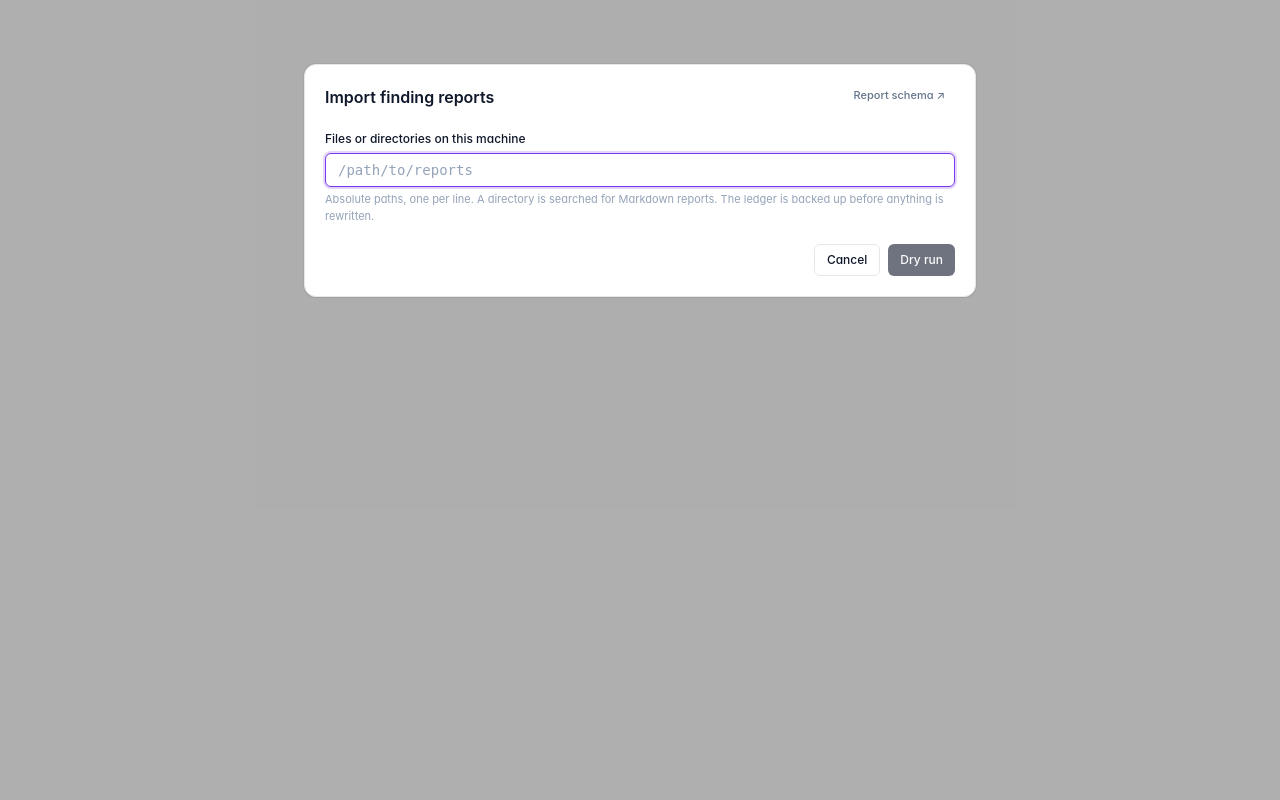
Scenario: ImportFindingsDialog › shows a refusal inline and forgets the dry run when the paths change
Type "srv/x" into the text box labelled "Files or directories on this machine".
click(640, 170); type("srv/x")  # box [325,153,955,187]
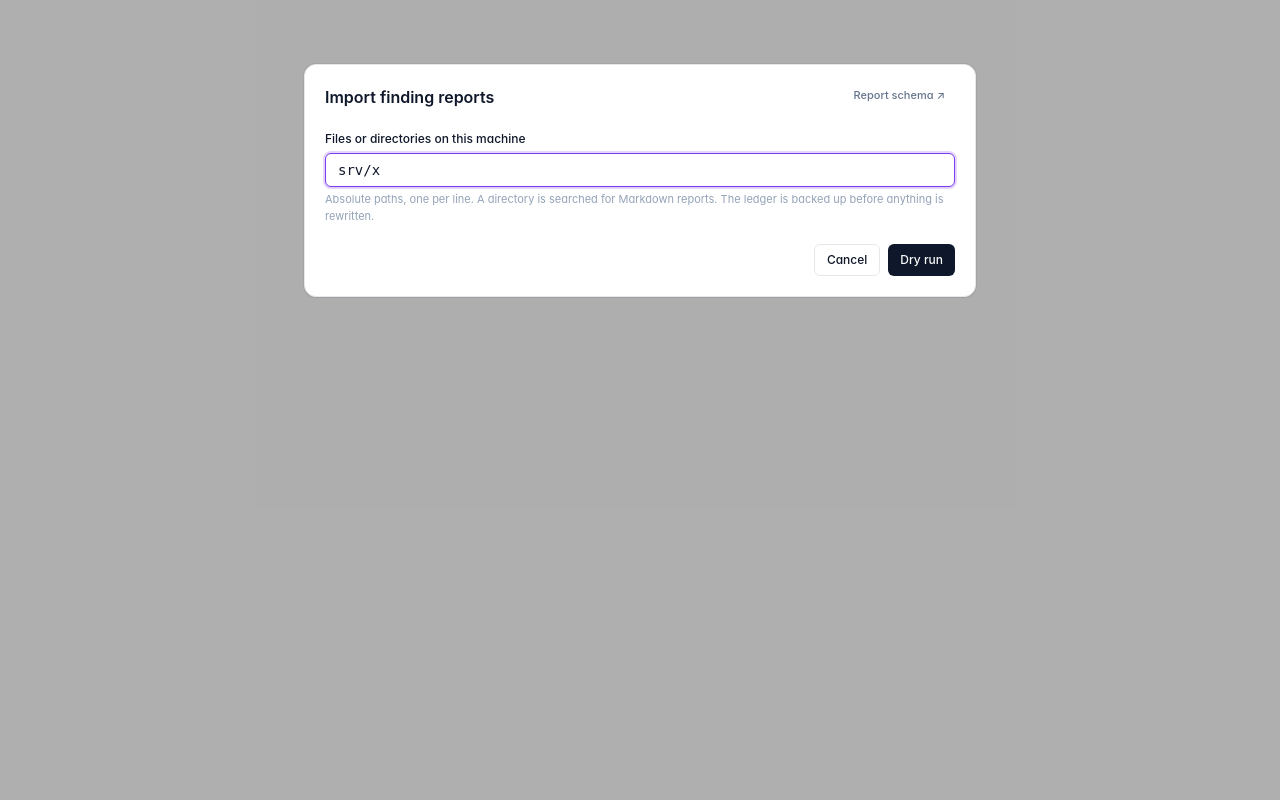
Click the button "Dry run".
click(922, 260)  # box [888,244,955,276]
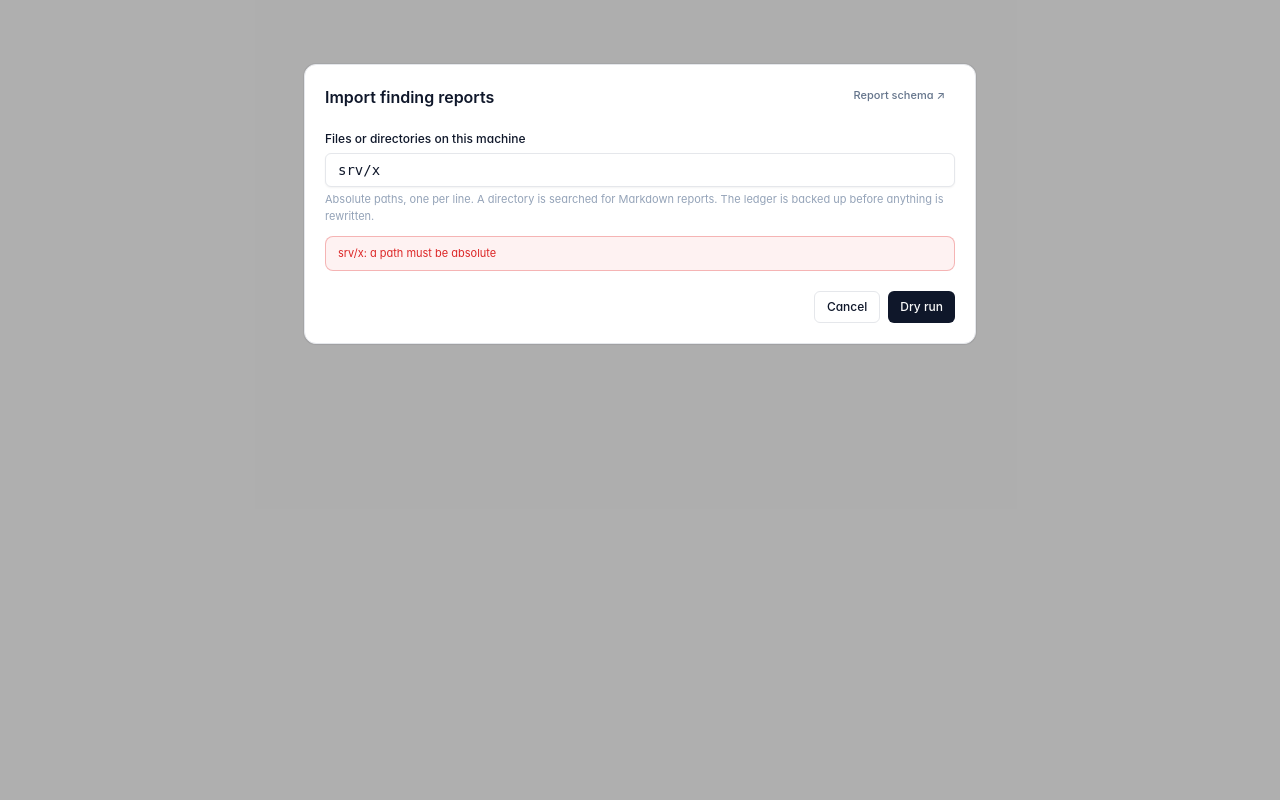
expect the message shows "a path must be absolute": met, box [338,246,496,260]
Replace the text in the text box labelled "Files or directories on this machine" with "/srv/x" at (640, 170), box [325,153,955,187]
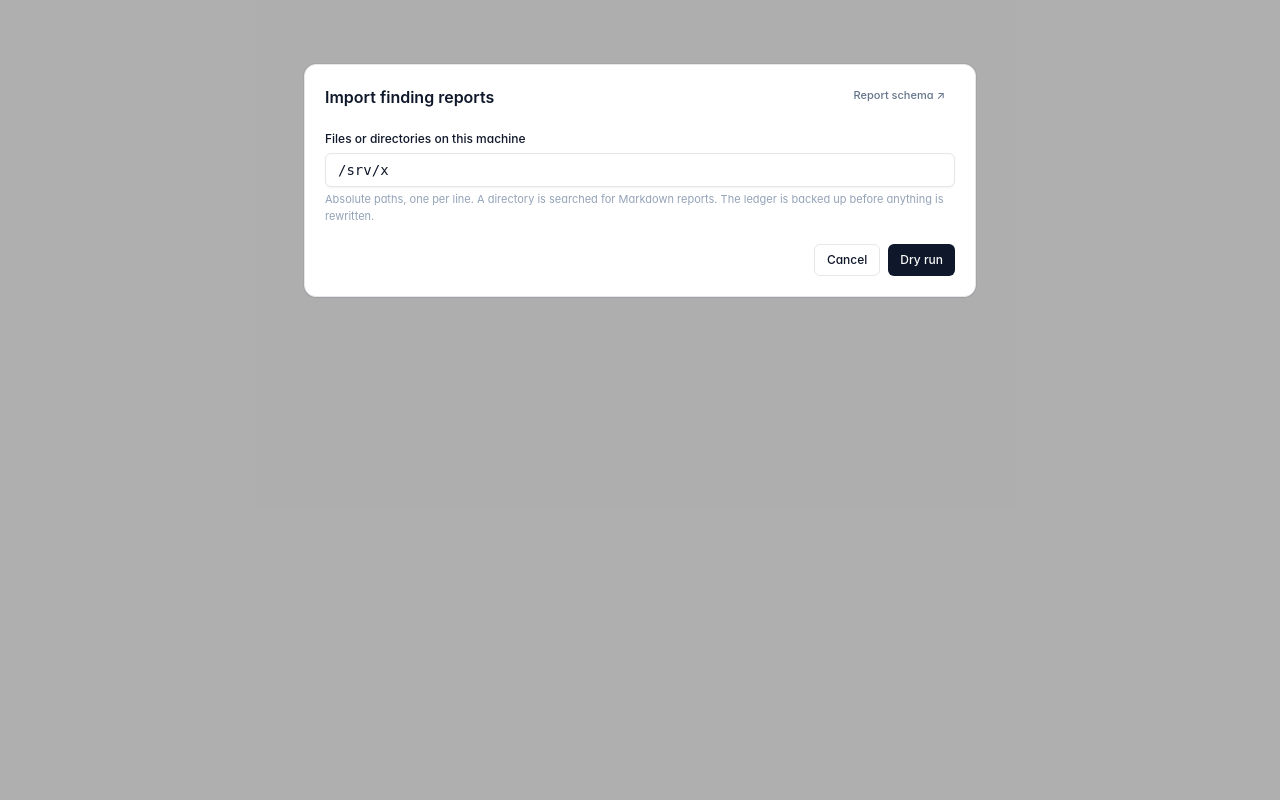
expect the message "srv/x: a path must be absolute" is gone: met
